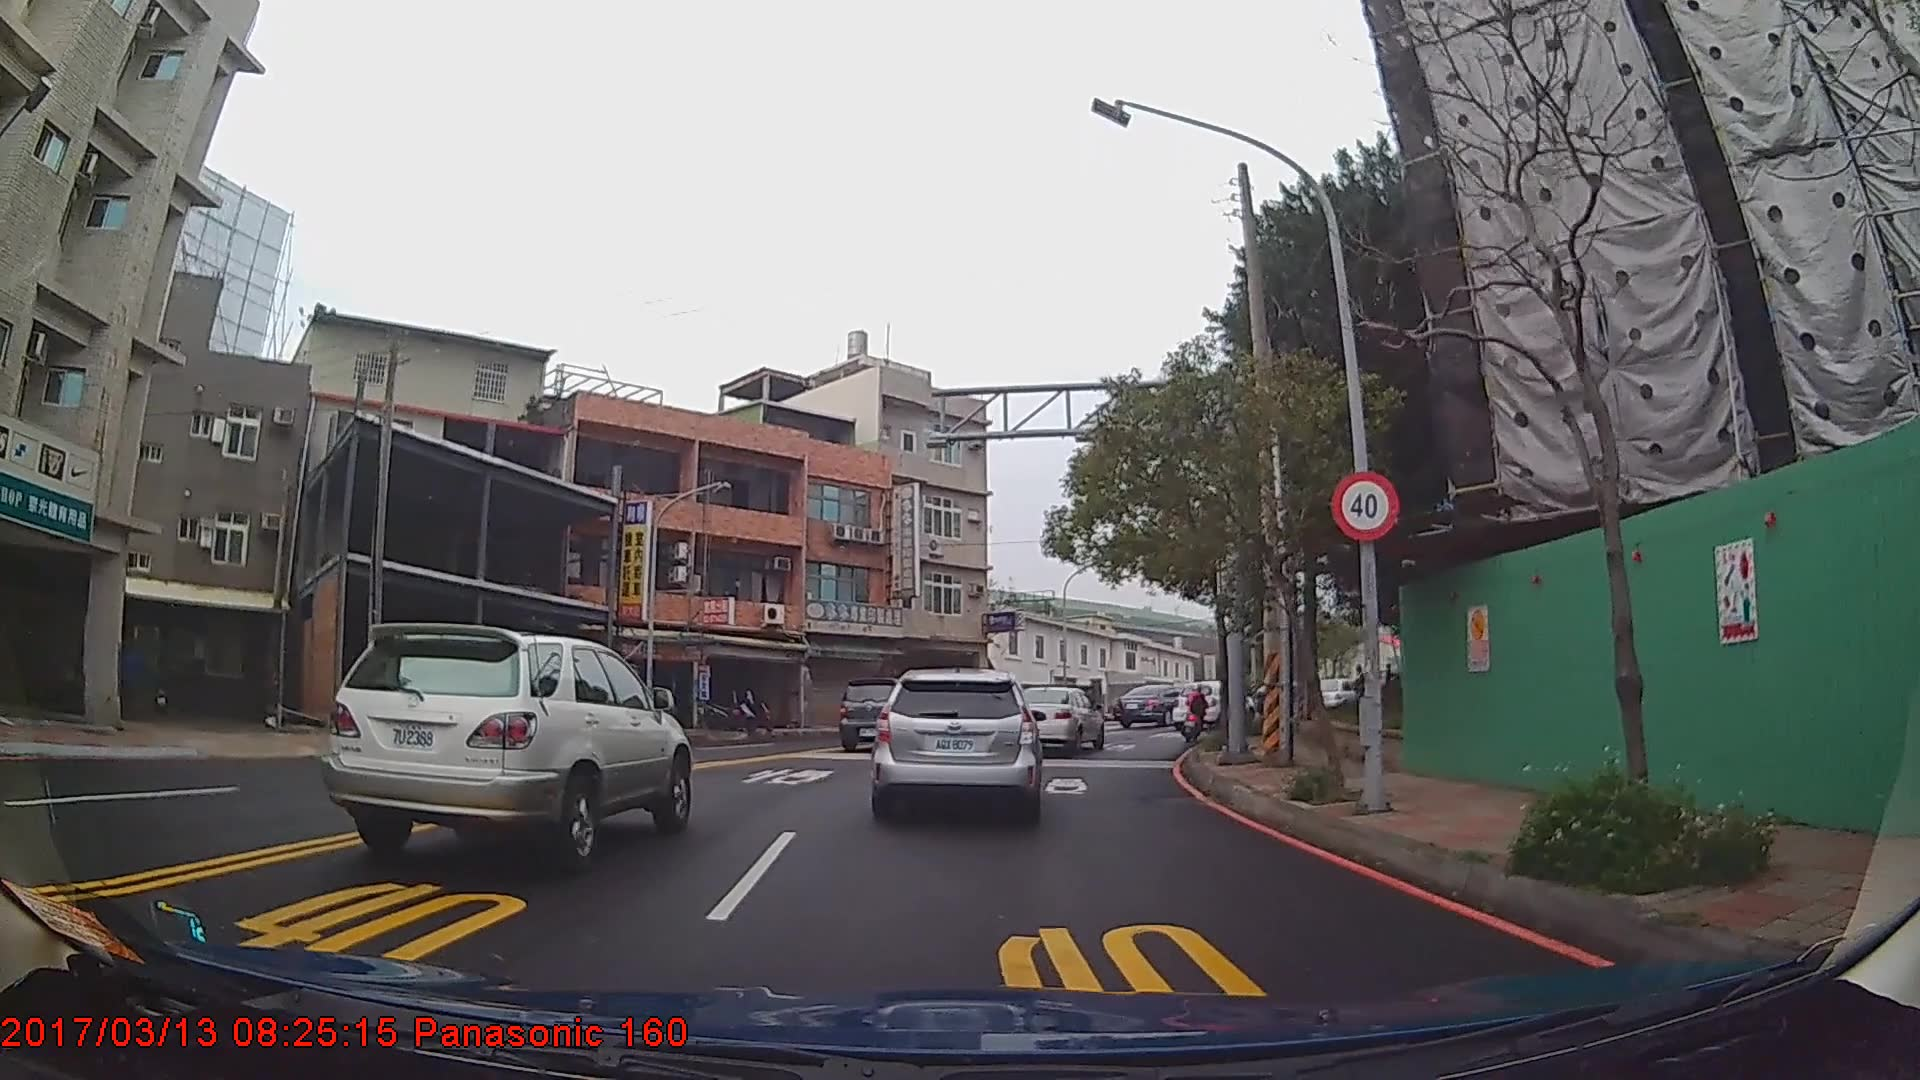rider: (1183, 685, 1210, 741)
vehicle: (325, 619, 691, 876), (869, 667, 1040, 825), (837, 679, 935, 752), (1015, 683, 1106, 755), (1114, 680, 1193, 727)
